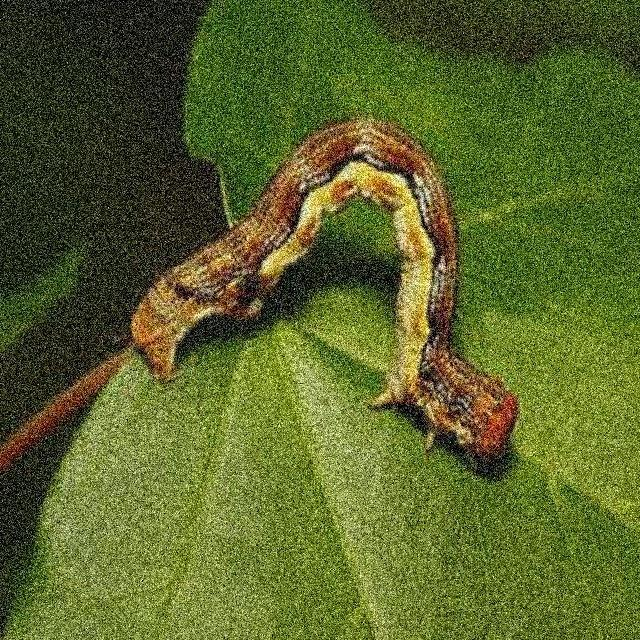worm: (123, 115, 520, 478)
